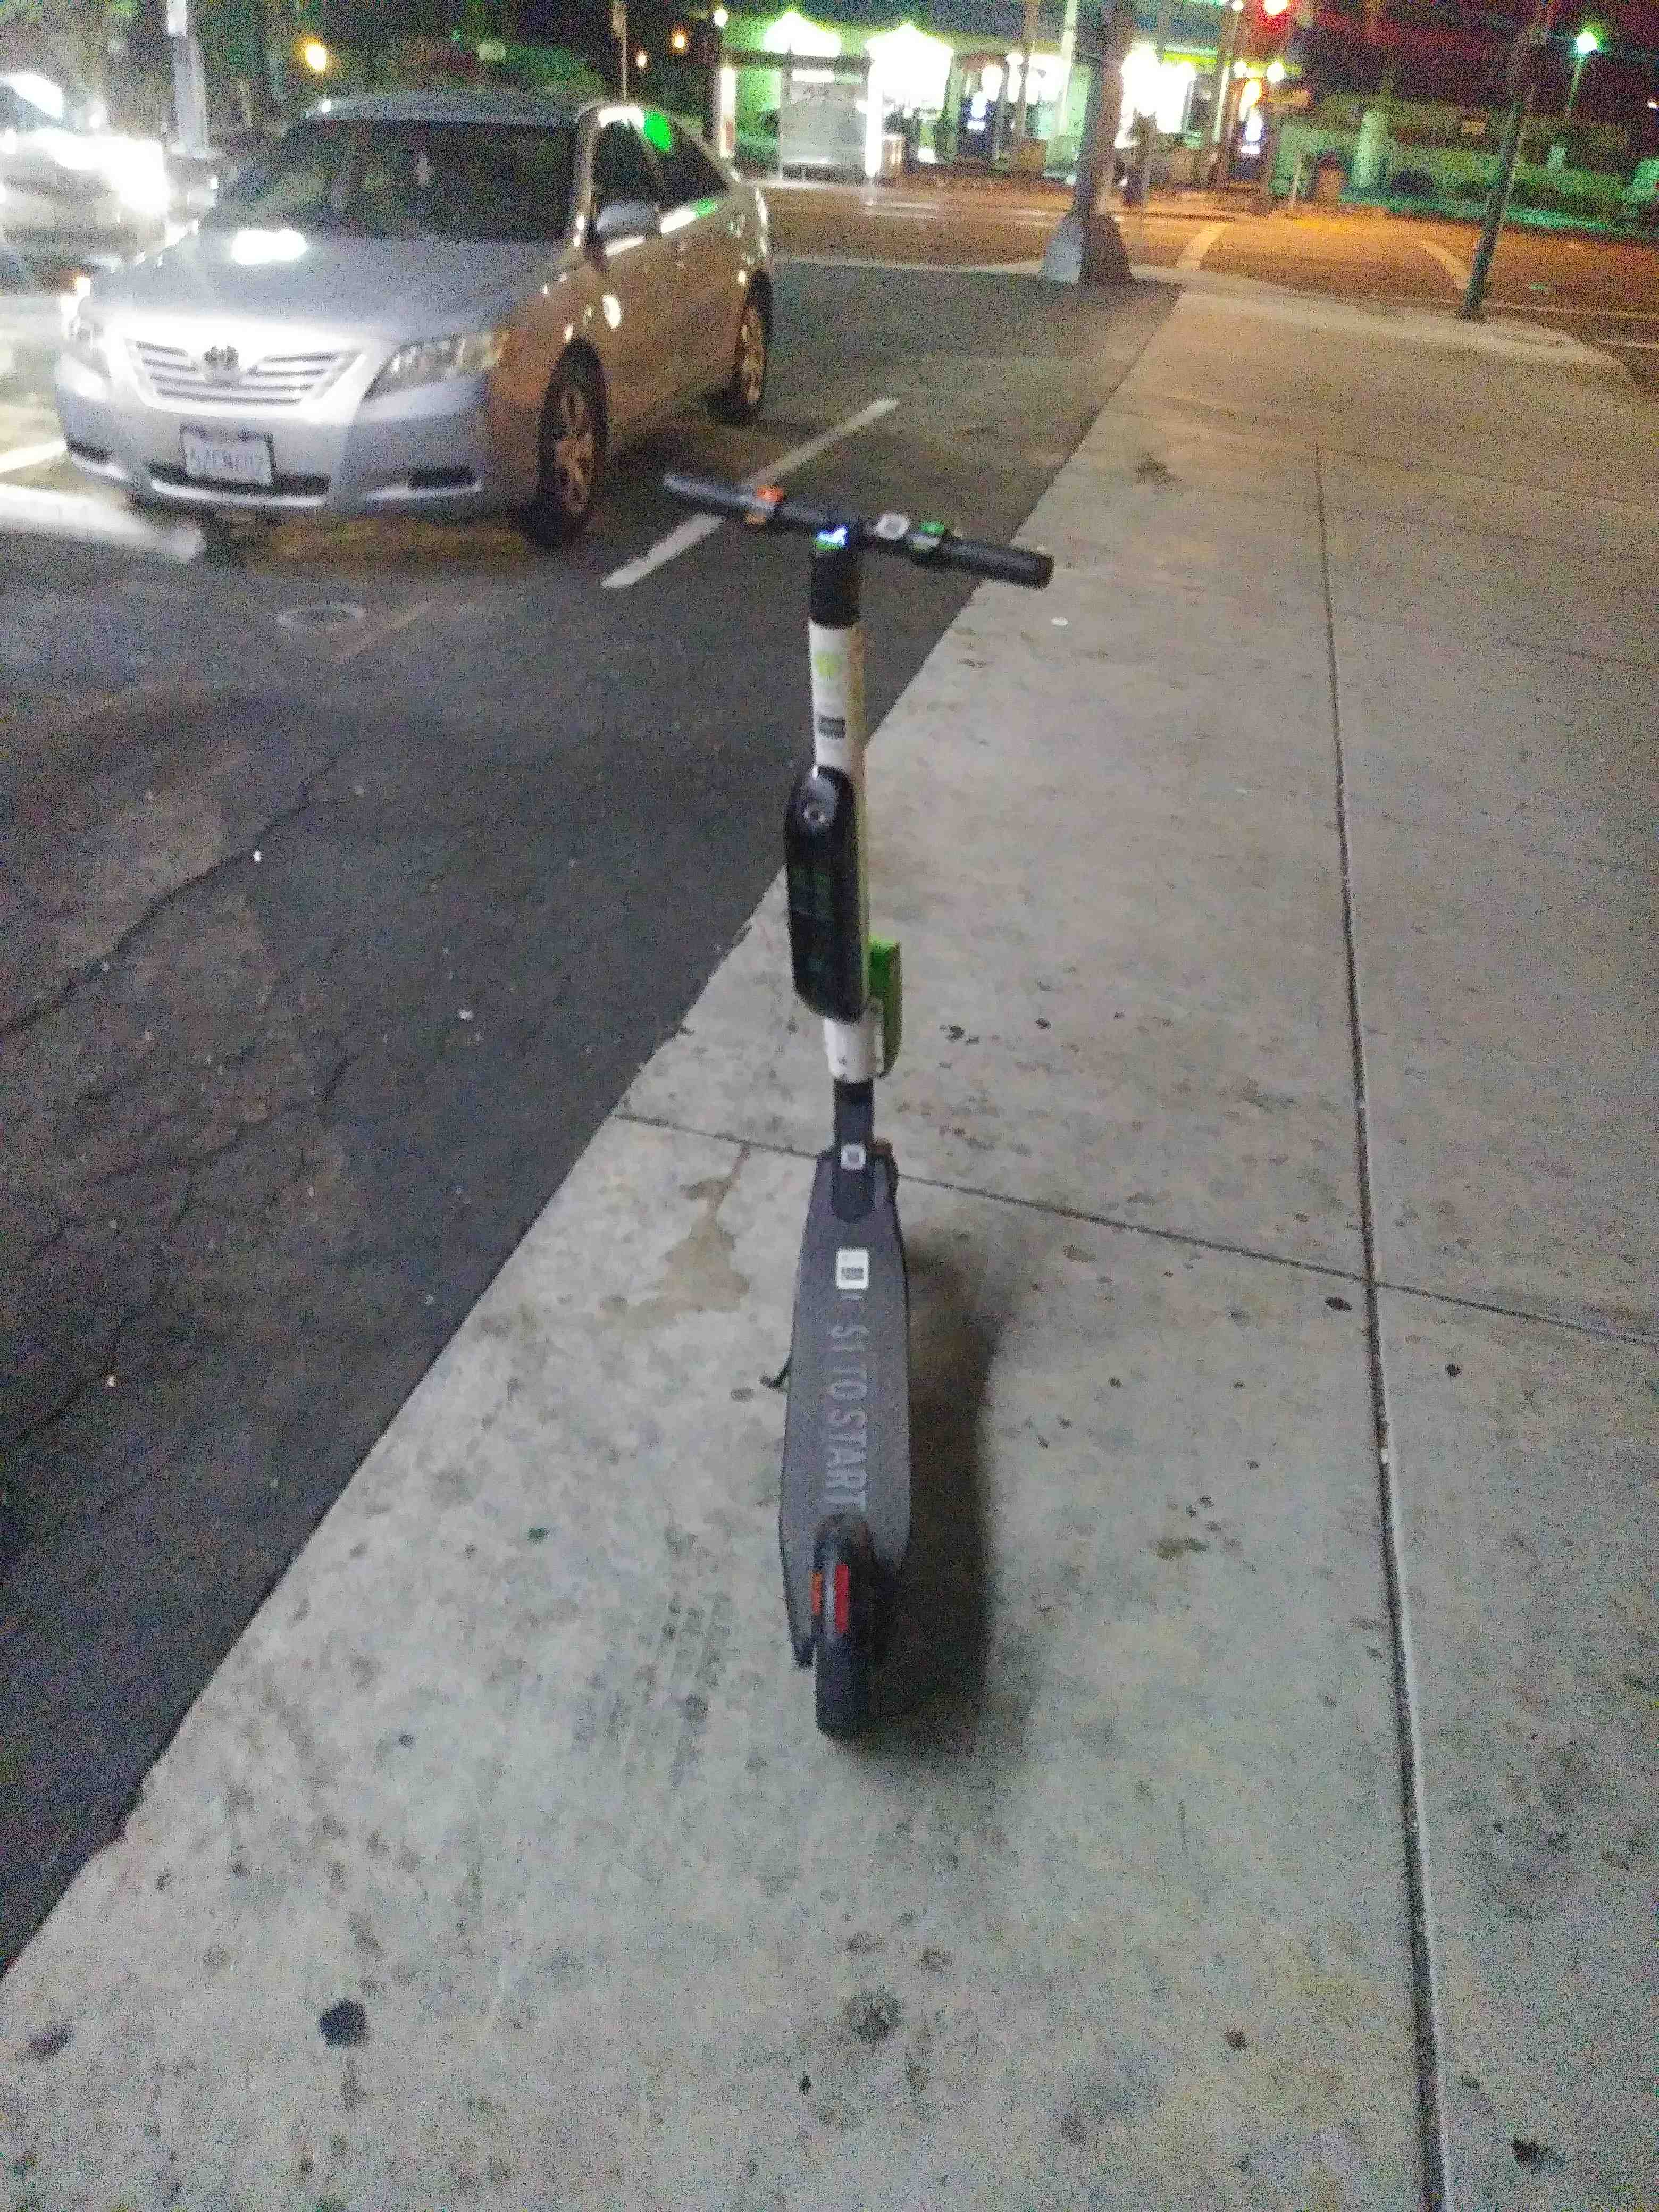scooter: (561, 467, 1098, 1754)
